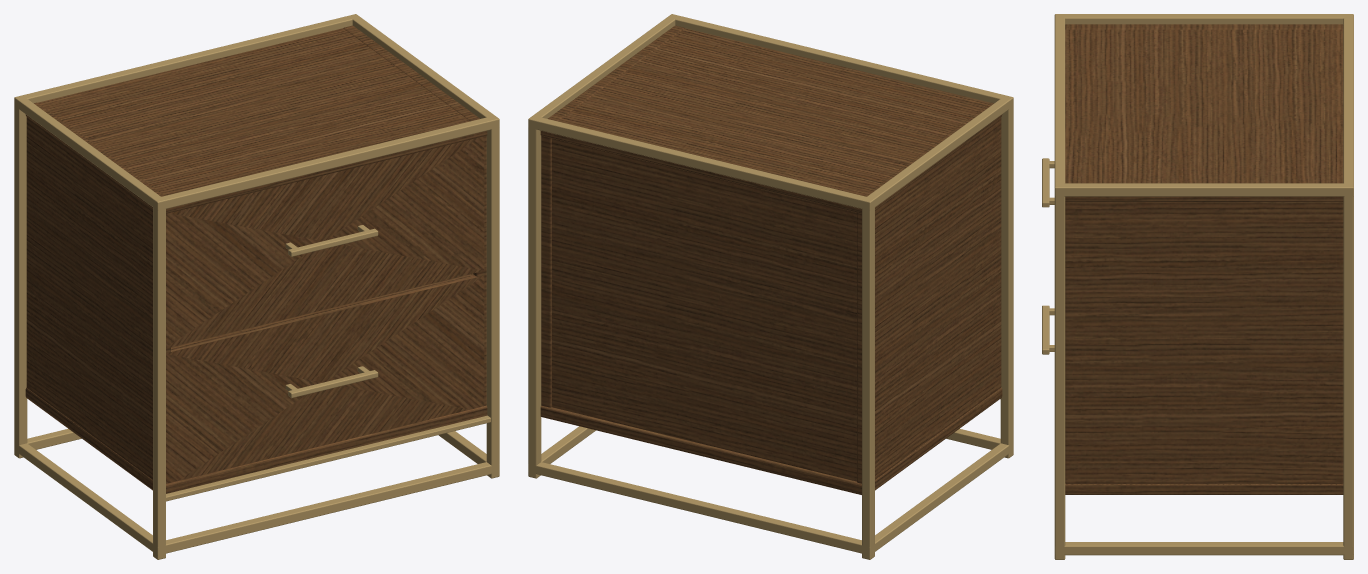
The picture shows the model from 3 angles, left to right: view 1: azimuth 30°, elevation 25°; view 2: azimuth 150°, elevation 25°; view 3: azimuth 270°, elevation 25°; orthographic projection. The views are drawn at different scales.
Parts seen in each view (by area): view 1: SIENNA LV463-B42 | master-left optimized, Bedside drawer 1 sliding pivot optimized, Bedside drawer 2 sliding pivot optimized; view 2: SIENNA LV463-B42 | master-left optimized; view 3: SIENNA LV463-B42 | master-left optimized, Bedside drawer 2 sliding pivot optimized, Bedside drawer 1 sliding pivot optimized.
Boxes of the visible parts, bbox=[...] form: SIENNA LV463-B42 | master-left optimized: bbox=[14, 14, 499, 559]; Bedside drawer 1 sliding pivot optimized: bbox=[166, 274, 484, 483]; Bedside drawer 2 sliding pivot optimized: bbox=[166, 136, 484, 348]; SIENNA LV463-B42 | master-left optimized: bbox=[528, 14, 1013, 559]; SIENNA LV463-B42 | master-left optimized: bbox=[1054, 14, 1353, 559]; Bedside drawer 2 sliding pivot optimized: bbox=[1042, 158, 1054, 207]; Bedside drawer 1 sliding pivot optimized: bbox=[1042, 305, 1054, 354].
Bounding box in the file's own units: 0.55 × 0.55 × 0.417.
4 materials, 2 textured.
